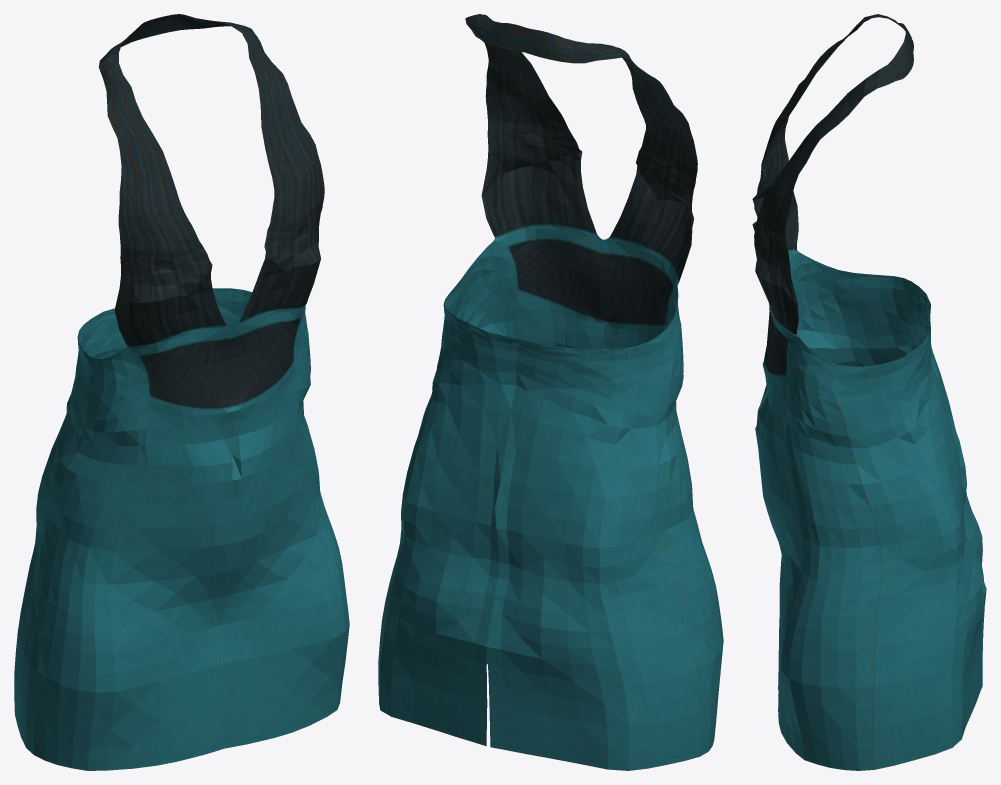
Rendered from mhw_mindfront_f_dress_06.glb.
The picture shows the model from 3 angles, left to right: view 1: azimuth 30°, elevation 25°; view 2: azimuth 150°, elevation 25°; view 3: azimuth 270°, elevation 25°; orthographic projection. The views are drawn at different scales.
Parts seen in each view (by area): view 1: mhw_mindfront_f_dress_06; view 2: mhw_mindfront_f_dress_06; view 3: mhw_mindfront_f_dress_06.
Boxes of the visible parts, x1,y1,x2,y2 form: mhw_mindfront_f_dress_06: [14, 14, 349, 770]; mhw_mindfront_f_dress_06: [378, 14, 723, 770]; mhw_mindfront_f_dress_06: [752, 14, 986, 770].
Bounding box in the file's own units: 0.4345 × 0.9402 × 0.2985.
Materials: 1 (1 with a texture image).
